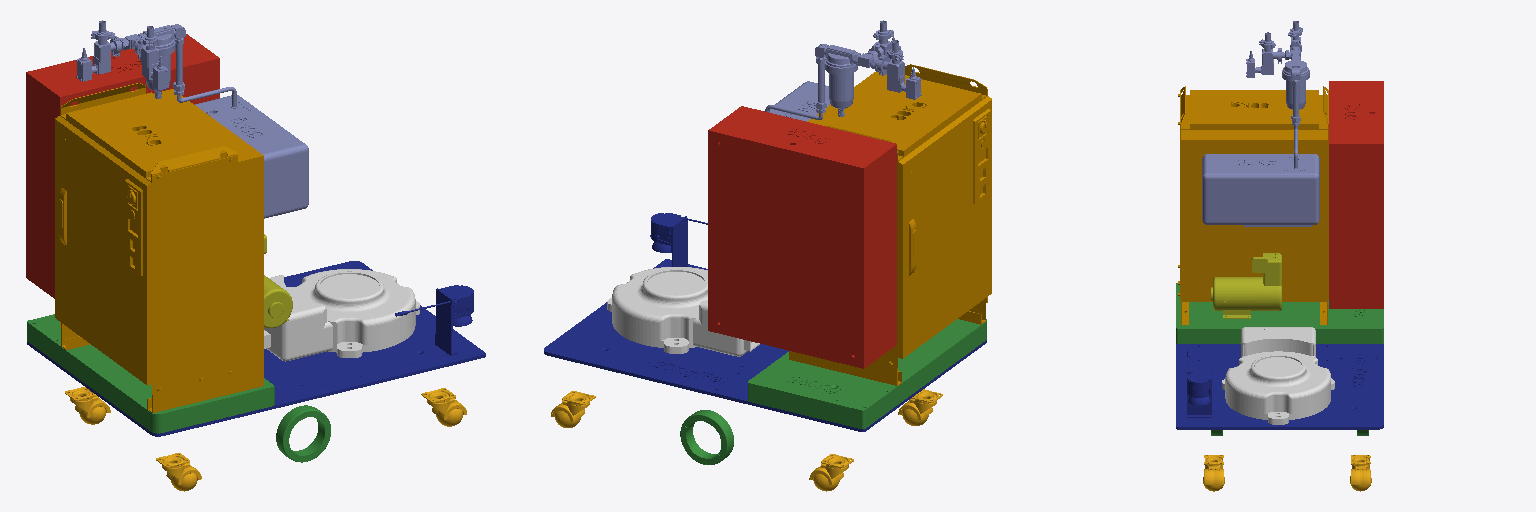
robot.urdf — mir1350:
<?xml version="1.0" ?>
<!-- =================================================================================== -->
<!-- |    This document was autogenerated by xacro from mir1350.xacro                  | -->
<!-- |    EDITING THIS FILE BY HAND IS NOT RECOMMENDED                                 | -->
<!-- =================================================================================== -->
<robot name="mir1350">
  <material name="silver_default">
    <color rgba="0.700 0.700 0.700 1.000"/>
  </material>
  <material name="opaque156168171">
    <color rgba="0.611764705882353 0.6588235294117647 0.6705882352941176 1.0"/>
  </material>
  <material name="powder_coat_rough_green">
    <color rgba="0.26666666666666666 0.5882352941176471 0.2823529411764706 0.0"/>
  </material>
  <material name="powder_coat_rough_blue_1">
    <color rgba="0.5450980392156862 0.5686274509803921 0.7490196078431373 1.0"/>
  </material>
  <material name="opaque223223223">
    <color rgba="0.8745098039215686 0.8745098039215686 0.8745098039215686 1.0"/>
  </material>
  <material name="paint_metallic_red">
    <color rgba="0.7686274509803922 0.20784313725490197 0.15294117647058825 1.0"/>
  </material>
  <material name="polymide_kapton">
    <color rgba="0.7843137254901961 0.5568627450980392 0.027450980392156862 1.0"/>
  </material>
  <material name="paint_metal_flake_green">
    <color rgba="0.26666666666666666 0.5882352941176471 0.2823529411764706 0.0"/>
  </material>
  <material name="paint_metallic_green_1">
    <color rgba="0.7019607843137254 0.7098039215686275 0.19607843137254902 1.0"/>
  </material>
  <material name="powder_coat_rough_blue">
    <color rgba="0.18823529411764706 0.23137254901960785 0.5882352941176471 0.0"/>
  </material>
  <material name="paint_metal_flake_black">
    <color rgba="0.34901960784313724 0.34901960784313724 0.34901960784313724 0.0"/>
  </material>
  <material name="paint_metallic_yellow_2">
    <color rgba="0.7019607843137254 0.6823529411764706 0.6352941176470588 1.0"/>
  </material>
  <material name="paint_metallic_dark_grey">
    <color rgba="0.34901960784313724 0.34901960784313724 0.34901960784313724 1.0"/>
  </material>
  <material name="paint_metal_flake_yellow">
    <color rgba="0.9098039215686274 0.6784313725490196 0.13725490196078433 0.0"/>
  </material>
  <transmission name="leftDriveWheel_link_tran">
    <type>transmission_interface/SimpleTransmission</type>
    <joint name="leftDriveWheel_link">
      <hardwareInterface>hardware_interface/EffortJointInterface</hardwareInterface>
    </joint>
    <actuator name="leftDriveWheel_link_actr">
      <hardwareInterface>hardware_interface/EffortJointInterface</hardwareInterface>
      <mechanicalReduction>1</mechanicalReduction>
    </actuator>
  </transmission>
  <transmission name="rightDriveWheel_link_tran">
    <type>transmission_interface/SimpleTransmission</type>
    <joint name="rightDriveWheel_link">
      <hardwareInterface>hardware_interface/EffortJointInterface</hardwareInterface>
    </joint>
    <actuator name="rightDriveWheel_link_actr">
      <hardwareInterface>hardware_interface/EffortJointInterface</hardwareInterface>
      <mechanicalReduction>1</mechanicalReduction>
    </actuator>
  </transmission>
  <gazebo>
    <plugin filename="libgazebo_ros_control.so" name="control"/>
  </gazebo>
  <gazebo reference="base_link">
    <material>Gazebo/Silver</material>
    <mu1>0.2</mu1>
    <mu2>0.2</mu2>
    <selfCollide>true</selfCollide>
    <gravity>true</gravity>
  </gazebo>
  <gazebo reference="caster_RearRight__2__1">
    <material>Gazebo/Silver</material>
    <mu1>0.2</mu1>
    <mu2>0.2</mu2>
    <selfCollide>true</selfCollide>
  </gazebo>
  <gazebo reference="caster_RearLeft__2__1">
    <material>Gazebo/Silver</material>
    <mu1>0.2</mu1>
    <mu2>0.2</mu2>
    <selfCollide>true</selfCollide>
  </gazebo>
  <gazebo reference="caster_FrontLeft__2__1">
    <material>Gazebo/Silver</material>
    <mu1>0.2</mu1>
    <mu2>0.2</mu2>
    <selfCollide>true</selfCollide>
  </gazebo>
  <gazebo reference="caster_FrontRight__2__1">
    <material>Gazebo/Silver</material>
    <mu1>0.2</mu1>
    <mu2>0.2</mu2>
    <selfCollide>true</selfCollide>
  </gazebo>
  <gazebo reference="drive_LeftWheel__1__1">
    <material>Gazebo/Silver</material>
    <mu1>0.2</mu1>
    <mu2>0.2</mu2>
    <selfCollide>true</selfCollide>
  </gazebo>
  <gazebo reference="drive_RightWheel__1__1">
    <material>Gazebo/Silver</material>
    <mu1>0.2</mu1>
    <mu2>0.2</mu2>
    <selfCollide>true</selfCollide>
  </gazebo>
  <gazebo reference="BasePlate_120kg__1__1">
    <material>Gazebo/Silver</material>
    <mu1>0.2</mu1>
    <mu2>0.2</mu2>
    <selfCollide>true</selfCollide>
  </gazebo>
  <gazebo reference="abb_link1__1__1">
    <material>Gazebo/Silver</material>
    <mu1>0.2</mu1>
    <mu2>0.2</mu2>
    <selfCollide>true</selfCollide>
  </gazebo>
  <gazebo reference="RollerConveyor_40kg__1__1">
    <material>Gazebo/Silver</material>
    <mu1>0.2</mu1>
    <mu2>0.2</mu2>
    <selfCollide>true</selfCollide>
  </gazebo>
  <gazebo reference="CounterWeight_1">
    <material>Gazebo/Silver</material>
    <mu1>0.2</mu1>
    <mu2>0.2</mu2>
    <selfCollide>true</selfCollide>
  </gazebo>
  <gazebo reference="ABBcontroller_80kg__1__1">
    <material>Gazebo/Silver</material>
    <mu1>0.2</mu1>
    <mu2>0.2</mu2>
    <selfCollide>true</selfCollide>
  </gazebo>
  <gazebo reference="AirCompressor_16kg__1__1">
    <material>Gazebo/Silver</material>
    <mu1>0.2</mu1>
    <mu2>0.2</mu2>
    <selfCollide>true</selfCollide>
  </gazebo>
  <gazebo reference="otherParts_30kg__1__1">
    <material>Gazebo/Silver</material>
    <mu1>0.2</mu1>
    <mu2>0.2</mu2>
    <selfCollide>true</selfCollide>
  </gazebo>
  <gazebo reference="VacuumPump_1">
    <material>Gazebo/Silver</material>
    <mu1>0.2</mu1>
    <mu2>0.2</mu2>
    <selfCollide>true</selfCollide>
  </gazebo>
  <gazebo reference="SystemControl_80kg__1__1">
    <material>Gazebo/Silver</material>
    <mu1>0.2</mu1>
    <mu2>0.2</mu2>
    <selfCollide>true</selfCollide>
  </gazebo>
  <link name="base_link">
    <inertial>
      <origin rpy="0 0 0" xyz="-0.0010856545485442544 0.0007356954383515964 0.21743258516762787"/>
      <mass value="240.06091950178092"/>
      <inertia ixx="8.059298" ixy="-0.156968" ixz="0.012994" iyy="25.714345" iyz="-0.000121" izz="32.254947"/>
    </inertial>
    <visual>
      <origin rpy="0 0 0" xyz="0 0 0"/>
      <geometry>
        <mesh filename="package://mir1350_description/meshes/base_link.stl" scale="0.001 0.001 0.001"/>
      </geometry>
      <material name="paint_metallic_dark_grey"/>
    </visual>
    <collision>
      <origin rpy="0 0 0" xyz="0 0 0"/>
      <geometry>
        <mesh filename="package://mir1350_description/meshes/base_link.stl" scale="0.001 0.001 0.001"/>
      </geometry>
    </collision>
  </link>
  <link name="caster_RearRight__2__1">
    <inertial>
      <origin rpy="0 0 0" xyz="0.03912380860145043 1.8628503270501362e-06 -0.06724507608734312"/>
      <mass value="0.0006519532912591948"/>
      <inertia ixx="1e-06" ixy="-0.0" ixz="0.0" iyy="1e-06" iyz="-0.0" izz="1e-06"/>
    </inertial>
    <visual>
      <origin rpy="0 0 0" xyz="0.538127 0.319775 -0.129389"/>
      <geometry>
        <mesh filename="package://mir1350_description/meshes/caster_RearRight__2__1.stl" scale="0.001 0.001 0.001"/>
      </geometry>
      <material name="paint_metal_flake_yellow"/>
    </visual>
    <collision>
      <origin rpy="0 0 0" xyz="0.538127 0.319775 -0.129389"/>
      <geometry>
        <mesh filename="package://mir1350_description/meshes/caster_RearRight__2__1.stl" scale="0.001 0.001 0.001"/>
      </geometry>
    </collision>
  </link>
  <link name="caster_RearLeft__2__1">
    <inertial>
      <origin rpy="0 0 0" xyz="0.039123808408470295 1.9656599339890057e-06 -0.06724507598934176"/>
      <mass value="0.0006519532953513688"/>
      <inertia ixx="1e-06" ixy="-0.0" ixz="0.0" iyy="1e-06" iyz="-0.0" izz="1e-06"/>
    </inertial>
    <visual>
      <origin rpy="0 0 0" xyz="0.538127 -0.323225 -0.129389"/>
      <geometry>
        <mesh filename="package://mir1350_description/meshes/caster_RearLeft__2__1.stl" scale="0.001 0.001 0.001"/>
      </geometry>
      <material name="paint_metal_flake_yellow"/>
    </visual>
    <collision>
      <origin rpy="0 0 0" xyz="0.538127 -0.323225 -0.129389"/>
      <geometry>
        <mesh filename="package://mir1350_description/meshes/caster_RearLeft__2__1.stl" scale="0.001 0.001 0.001"/>
      </geometry>
    </collision>
  </link>
  <link name="caster_FrontLeft__2__1">
    <inertial>
      <origin rpy="0 0 0" xyz="0.039124372463198887 2.1566922445148684e-06 -0.06724507116121485"/>
      <mass value="0.0006519533692146864"/>
      <inertia ixx="1e-06" ixy="-0.0" ixz="0.0" iyy="1e-06" iyz="-0.0" izz="1e-06"/>
    </inertial>
    <visual>
      <origin rpy="0 0 0" xyz="-0.541875 -0.323225 -0.129389"/>
      <geometry>
        <mesh filename="package://mir1350_description/meshes/caster_FrontLeft__2__1.stl" scale="0.001 0.001 0.001"/>
      </geometry>
      <material name="paint_metal_flake_yellow"/>
    </visual>
    <collision>
      <origin rpy="0 0 0" xyz="-0.541875 -0.323225 -0.129389"/>
      <geometry>
        <mesh filename="package://mir1350_description/meshes/caster_FrontLeft__2__1.stl" scale="0.001 0.001 0.001"/>
      </geometry>
    </collision>
  </link>
  <link name="caster_FrontRight__2__1">
    <inertial>
      <origin rpy="0 0 0" xyz="0.03912395381400113 1.6983374287460329e-06 -0.06724507116242276"/>
      <mass value="0.0006519533692452119"/>
      <inertia ixx="1e-06" ixy="-0.0" ixz="0.0" iyy="1e-06" iyz="-0.0" izz="1e-06"/>
    </inertial>
    <visual>
      <origin rpy="0 0 0" xyz="-0.541875 0.319775 -0.129389"/>
      <geometry>
        <mesh filename="package://mir1350_description/meshes/caster_FrontRight__2__1.stl" scale="0.001 0.001 0.001"/>
      </geometry>
      <material name="paint_metal_flake_yellow"/>
    </visual>
    <collision>
      <origin rpy="0 0 0" xyz="-0.541875 0.319775 -0.129389"/>
      <geometry>
        <mesh filename="package://mir1350_description/meshes/caster_FrontRight__2__1.stl" scale="0.001 0.001 0.001"/>
      </geometry>
    </collision>
  </link>
  <link name="drive_LeftWheel__1__1">
    <inertial>
      <origin rpy="0 0 0" xyz="-5.70429820866429e-07 -0.025130866674841934 6.552288893249547e-06"/>
      <mass value="0.0007074594908384875"/>
      <inertia ixx="3e-06" ixy="-0.0" ixz="0.0" iyy="5e-06" iyz="0.0" izz="3e-06"/>
    </inertial>
    <visual>
      <origin rpy="0 0 0" xyz="-0.000375 -0.357025 -0.099389"/>
      <geometry>
        <mesh filename="package://mir1350_description/meshes/drive_LeftWheel__1__1.stl" scale="0.001 0.001 0.001"/>
      </geometry>
      <material name="paint_metal_flake_green"/>
    </visual>
    <collision>
      <origin rpy="0 0 0" xyz="-0.000375 -0.357025 -0.099389"/>
      <geometry>
        <mesh filename="package://mir1350_description/meshes/drive_LeftWheel__1__1.stl" scale="0.001 0.001 0.001"/>
      </geometry>
    </collision>
  </link>
  <link name="drive_RightWheel__1__1">
    <inertial>
      <origin rpy="0 0 0" xyz="-5.704299383384875e-07 0.025130102319404435 -5.8247150360041244e-06"/>
      <mass value="0.0007074594908384411"/>
      <inertia ixx="3e-06" ixy="0.0" ixz="-0.0" iyy="5e-06" iyz="0.0" izz="3e-06"/>
    </inertial>
    <visual>
      <origin rpy="0 0 0" xyz="-0.000375 0.332265 -0.099389"/>
      <geometry>
        <mesh filename="package://mir1350_description/meshes/drive_RightWheel__1__1.stl" scale="0.001 0.001 0.001"/>
      </geometry>
      <material name="paint_metal_flake_green"/>
    </visual>
    <collision>
      <origin rpy="0 0 0" xyz="-0.000375 0.332265 -0.099389"/>
      <geometry>
        <mesh filename="package://mir1350_description/meshes/drive_RightWheel__1__1.stl" scale="0.001 0.001 0.001"/>
      </geometry>
    </collision>
  </link>
  <link name="BasePlate_120kg__1__1">
    <inertial>
      <origin rpy="0 0 0" xyz="-0.619555176634307 -0.4713520529920168 0.01790951521729106"/>
      <mass value="119.4299537127963"/>
      <inertia ixx="8.874803" ixy="1.691826" ixz="-0.777844" iyy="19.832101" iyz="0.452625" izz="28.257635"/>
    </inertial>
    <visual>
      <origin rpy="0 0 0" xyz="-0.634155 -0.415505 -0.320389"/>
      <geometry>
        <mesh filename="package://mir1350_description/meshes/BasePlate_120kg__1__1.stl" scale="0.001 0.001 0.001"/>
      </geometry>
      <material name="powder_coat_rough_blue"/>
    </visual>
    <collision>
      <origin rpy="0 0 0" xyz="-0.634155 -0.415505 -0.320389"/>
      <geometry>
        <mesh filename="package://mir1350_description/meshes/BasePlate_120kg__1__1.stl" scale="0.001 0.001 0.001"/>
      </geometry>
    </collision>
  </link>
  <link name="abb_link1__1__1">
    <inertial>
      <origin rpy="0 0 0" xyz="-0.08609939509422998 9.104875394928824e-05 0.07094417667188363"/>
      <mass value="48.995313898683875"/>
      <inertia ixx="0.678647" ixy="0.001301" ixz="0.078187" iyy="1.412674" iyz="7e-05" izz="1.894976"/>
    </inertial>
    <visual>
      <origin rpy="0 0 0" xyz="-0.342941 0.037709 -0.333089"/>
      <geometry>
        <mesh filename="package://mir1350_description/meshes/abb_link1__1__1.stl" scale="0.001 0.001 0.001"/>
      </geometry>
      <material name="opaque223223223"/>
    </visual>
    <collision>
      <origin rpy="0 0 0" xyz="-0.342941 0.037709 -0.333089"/>
      <geometry>
        <mesh filename="package://mir1350_description/meshes/abb_link1__1__1.stl" scale="0.001 0.001 0.001"/>
      </geometry>
    </collision>
  </link>
  <link name="RollerConveyor_40kg__1__1">
    <inertial>
      <origin rpy="0 0 0" xyz="-0.0015468495463342724 -0.34710390212615844 0.26422565397448744"/>
      <mass value="39.993100647907234"/>
      <inertia ixx="1.695519" ixy="0.156929" ixz="-0.083665" iyy="7.932296" iyz="0.174401" izz="9.387733"/>
    </inertial>
    <visual>
      <origin rpy="0 0 0" xyz="-0.468441 0.406209 -0.333089"/>
      <geometry>
        <mesh filename="package://mir1350_description/meshes/RollerConveyor_40kg__1__1.stl" scale="0.001 0.001 0.001"/>
      </geometry>
      <material name="paint_metal_flake_black"/>
    </visual>
    <collision>
      <origin rpy="0 0 0" xyz="-0.468441 0.406209 -0.333089"/>
      <geometry>
        <mesh filename="package://mir1350_description/meshes/RollerConveyor_40kg__1__1.stl" scale="0.001 0.001 0.001"/>
      </geometry>
    </collision>
  </link>
  <link name="CounterWeight_1">
    <inertial>
      <origin rpy="0 0 0" xyz="-0.24145666446248365 -0.4515904882015565 0.037408571220634956"/>
      <mass value="259.8315203695886"/>
      <inertia ixx="18.030362" ixy="0.003971" ixz="0.001823" iyy="5.325588" iyz="-0.004185" izz="23.115669"/>
    </inertial>
    <visual>
      <origin rpy="0 0 0" xyz="0.219987 -0.421362 -0.332589"/>
      <geometry>
        <mesh filename="package://mir1350_description/meshes/CounterWeight_1.stl" scale="0.001 0.001 0.001"/>
      </geometry>
      <material name="powder_coat_rough_green"/>
    </visual>
    <collision>
      <origin rpy="0 0 0" xyz="0.219987 -0.421362 -0.332589"/>
      <geometry>
        <mesh filename="package://mir1350_description/meshes/CounterWeight_1.stl" scale="0.001 0.001 0.001"/>
      </geometry>
    </collision>
  </link>
  <link name="ABBcontroller_80kg__1__1">
    <inertial>
      <origin rpy="0 0 0" xyz="-0.23896852577640515 0.3216886577577235 0.5129132355755744"/>
      <mass value="79.98378809945639"/>
      <inertia ixx="7.105689" ixy="-0.004218" ixz="0.036728" iyy="5.799953" iyz="0.004404" izz="4.322858"/>
    </inertial>
    <visual>
      <origin rpy="0 0 0" xyz="0.252559 0.464209 -0.407589"/>
      <geometry>
        <mesh filename="package://mir1350_description/meshes/ABBcontroller_80kg__1__1.stl" scale="0.001 0.001 0.001"/>
      </geometry>
      <material name="polymide_kapton"/>
    </visual>
    <collision>
      <origin rpy="0 0 0" xyz="0.252559 0.464209 -0.407589"/>
      <geometry>
        <mesh filename="package://mir1350_description/meshes/ABBcontroller_80kg__1__1.stl" scale="0.001 0.001 0.001"/>
      </geometry>
    </collision>
  </link>
  <link name="AirCompressor_16kg__1__1">
    <inertial>
      <origin rpy="0 0 0" xyz="-0.061647150849215036 0.10717750979409016 0.09550861946833644"/>
      <mass value="16.000616374722483"/>
      <inertia ixx="0.181397" ixy="-0.000555" ixz="-0.002017" iyy="0.07793" iyz="-0.027496" izz="0.146624"/>
    </inertial>
    <visual>
      <origin rpy="0 0 0" xyz="0.061062 0.268087 -0.538339"/>
      <geometry>
        <mesh filename="package://mir1350_description/meshes/AirCompressor_16kg__1__1.stl" scale="0.001 0.001 0.001"/>
      </geometry>
      <material name="paint_metallic_green_1"/>
    </visual>
    <collision>
      <origin rpy="0 0 0" xyz="0.061062 0.268087 -0.538339"/>
      <geometry>
        <mesh filename="package://mir1350_description/meshes/AirCompressor_16kg__1__1.stl" scale="0.001 0.001 0.001"/>
      </geometry>
    </collision>
  </link>
  <link name="otherParts_30kg__1__1">
    <inertial>
      <origin rpy="0 0 0" xyz="-0.23191598172264377 -0.24452095846517857 0.3081784845026831"/>
      <mass value="0.00834966660294578"/>
      <inertia ixx="0.000756" ixy="0.000267" ixz="-0.000151" iyy="0.000669" iyz="0.000205" izz="0.000909"/>
    </inertial>
    <visual>
      <origin rpy="0 0 0" xyz="0.072059 -0.394291 -0.333089"/>
      <geometry>
        <mesh filename="package://mir1350_description/meshes/otherParts_30kg__1__1.stl" scale="0.001 0.001 0.001"/>
      </geometry>
      <material name="paint_metallic_yellow_2"/>
    </visual>
    <collision>
      <origin rpy="0 0 0" xyz="0.072059 -0.394291 -0.333089"/>
      <geometry>
        <mesh filename="package://mir1350_description/meshes/otherParts_30kg__1__1.stl" scale="0.001 0.001 0.001"/>
      </geometry>
    </collision>
  </link>
  <link name="VacuumPump_1">
    <inertial>
      <origin rpy="0 0 0" xyz="-0.12176064826890667 0.11539326877413086 0.21350080034661978"/>
      <mass value="35.133346290544765"/>
      <inertia ixx="1.918109" ixy="0.159077" ixz="0.644284" iyy="1.789979" iyz="-0.193885" izz="1.603041"/>
    </inertial>
    <visual>
      <origin rpy="0 0 0" xyz="0.053562 0.190587 -0.974339"/>
      <geometry>
        <mesh filename="package://mir1350_description/meshes/VacuumPump_1.stl" scale="0.001 0.001 0.001"/>
      </geometry>
      <material name="powder_coat_rough_blue_1"/>
    </visual>
    <collision>
      <origin rpy="0 0 0" xyz="0.053562 0.190587 -0.974339"/>
      <geometry>
        <mesh filename="package://mir1350_description/meshes/VacuumPump_1.stl" scale="0.001 0.001 0.001"/>
      </geometry>
    </collision>
  </link>
  <link name="SystemControl_80kg__1__1">
    <inertial>
      <origin rpy="0 0 0" xyz="-0.3250047661289873 -0.19784681591549375 0.3997534267575793"/>
      <mass value="79.97620780017995"/>
      <inertia ixx="5.216071" ixy="3.7e-05" ixz="0.000167" iyy="7.91172" iyz="0.006178" izz="3.683559"/>
    </inertial>
    <visual>
      <origin rpy="0 0 0" xyz="0.057059 -0.424291 -0.575339"/>
      <geometry>
        <mesh filename="package://mir1350_description/meshes/SystemControl_80kg__1__1.stl" scale="0.001 0.001 0.001"/>
      </geometry>
      <material name="paint_metallic_red"/>
    </visual>
    <collision>
      <origin rpy="0 0 0" xyz="0.057059 -0.424291 -0.575339"/>
      <geometry>
        <mesh filename="package://mir1350_description/meshes/SystemControl_80kg__1__1.stl" scale="0.001 0.001 0.001"/>
      </geometry>
    </collision>
  </link>
  <joint name="rightRearCaster_link" type="fixed">
    <origin rpy="0 0 0" xyz="-0.538127 -0.319775 0.129389"/>
    <parent link="base_link"/>
    <child link="caster_RearRight__2__1"/>
  </joint>
  <joint name="leftRearCaster_link" type="fixed">
    <origin rpy="0 0 0" xyz="-0.538127 0.323225 0.129389"/>
    <parent link="base_link"/>
    <child link="caster_RearLeft__2__1"/>
  </joint>
  <joint name="leftFrontCaster_link" type="fixed">
    <origin rpy="0 0 0" xyz="0.541875 0.323225 0.129389"/>
    <parent link="base_link"/>
    <child link="caster_FrontLeft__2__1"/>
  </joint>
  <joint name="rightFrontCaster_link" type="fixed">
    <origin rpy="0 0 0" xyz="0.541875 -0.319775 0.129389"/>
    <parent link="base_link"/>
    <child link="caster_FrontRight__2__1"/>
  </joint>
  <joint name="leftDriveWheel_link" type="continuous">
    <origin rpy="0 0 0" xyz="0.000375 0.357025 0.099389"/>
    <parent link="base_link"/>
    <child link="drive_LeftWheel__1__1"/>
    <axis xyz="0.0 1.0 -0.0"/>
  </joint>
  <joint name="rightDriveWheel_link" type="continuous">
    <origin rpy="0 0 0" xyz="0.000375 -0.332265 0.099389"/>
    <parent link="base_link"/>
    <child link="drive_RightWheel__1__1"/>
    <axis xyz="-0.0 -1.0 0.0"/>
  </joint>
  <joint name="mainPlate_link" type="fixed">
    <origin rpy="0 0 0" xyz="0.634155 0.415505 0.320389"/>
    <parent link="base_link"/>
    <child link="BasePlate_120kg__1__1"/>
  </joint>
  <joint name="abbLink1_link" type="fixed">
    <origin rpy="0 0 0" xyz="-0.291214 -0.453214 0.0127"/>
    <parent link="BasePlate_120kg__1__1"/>
    <child link="abb_link1__1__1"/>
  </joint>
  <joint name="conveyor_link" type="fixed">
    <origin rpy="0 0 0" xyz="-0.165714 -0.821714 0.0127"/>
    <parent link="BasePlate_120kg__1__1"/>
    <child link="RollerConveyor_40kg__1__1"/>
  </joint>
  <joint name="counterWeight_link" type="fixed">
    <origin rpy="0 0 0" xyz="-0.854142 0.005857 0.0122"/>
    <parent link="BasePlate_120kg__1__1"/>
    <child link="CounterWeight_1"/>
  </joint>
  <joint name="abbController_link" type="fixed">
    <origin rpy="0 0 0" xyz="-0.032572 -0.885571 0.075"/>
    <parent link="CounterWeight_1"/>
    <child link="ABBcontroller_80kg__1__1"/>
  </joint>
  <joint name="compressor_link" type="fixed">
    <origin rpy="0 0 0" xyz="0.010997 -0.662378 0.20525"/>
    <parent link="otherParts_30kg__1__1"/>
    <child link="AirCompressor_16kg__1__1"/>
  </joint>
  <joint name="fixture_link" type="fixed">
    <origin rpy="0 0 0" xyz="-0.706214 -0.021214 0.0127"/>
    <parent link="BasePlate_120kg__1__1"/>
    <child link="otherParts_30kg__1__1"/>
  </joint>
  <joint name="vacuumPump_link" type="fixed">
    <origin rpy="0 0 0" xyz="0.018497 -0.584878 0.64125"/>
    <parent link="otherParts_30kg__1__1"/>
    <child link="VacuumPump_1"/>
  </joint>
  <joint name="systemController_link" type="fixed">
    <origin rpy="0 0 0" xyz="0.015 0.03 0.24225"/>
    <parent link="otherParts_30kg__1__1"/>
    <child link="SystemControl_80kg__1__1"/>
  </joint>
</robot>

--- Facts derived from the render (not from the file) ---
Views: 3 orthographic renders of the robot side by side, from view 1: azimuth 30°, elevation 25°; view 2: azimuth 150°, elevation 25°; view 3: azimuth 270°, elevation 25°.
Robot: mir1350 — 16 links, 15 joints (2 continuous, 13 fixed); root link base_link; default pose: every joint at zero.
Visible links, largest first — view 1: ABBcontroller_80kg__1__1, BasePlate_120kg__1__1, SystemControl_80kg__1__1, abb_link1__1__1, VacuumPump_1, CounterWeight_1, drive_RightWheel__1__1, AirCompressor_16kg__1__1, caster_FrontRight__2__1, caster_RearRight__2__1, caster_RearLeft__2__1; view 2: SystemControl_80kg__1__1, ABBcontroller_80kg__1__1, BasePlate_120kg__1__1, CounterWeight_1, abb_link1__1__1, VacuumPump_1, drive_LeftWheel__1__1, caster_RearLeft__2__1, caster_FrontLeft__2__1, caster_RearRight__2__1; view 3: ABBcontroller_80kg__1__1, SystemControl_80kg__1__1, VacuumPump_1, BasePlate_120kg__1__1, abb_link1__1__1, CounterWeight_1, AirCompressor_16kg__1__1, caster_FrontRight__2__1, caster_FrontLeft__2__1.
Link boxes in pixels (<box>): ABBcontroller_80kg__1__1: <box>55,83,263,412</box>; BasePlate_120kg__1__1: <box>27,261,485,436</box>; SystemControl_80kg__1__1: <box>26,34,219,298</box>; abb_link1__1__1: <box>264,269,419,361</box>; VacuumPump_1: <box>76,20,308,218</box>; CounterWeight_1: <box>27,314,274,433</box>; drive_RightWheel__1__1: <box>276,405,330,462</box>; AirCompressor_16kg__1__1: <box>264,234,292,327</box>; caster_FrontRight__2__1: <box>421,388,466,426</box>; caster_RearRight__2__1: <box>156,453,201,491</box>; caster_RearLeft__2__1: <box>65,387,110,424</box>; SystemControl_80kg__1__1: <box>708,106,896,368</box>; ABBcontroller_80kg__1__1: <box>789,64,991,385</box>; BasePlate_120kg__1__1: <box>544,213,986,431</box>; CounterWeight_1: <box>748,319,986,428</box>; abb_link1__1__1: <box>607,267,759,356</box>; VacuumPump_1: <box>765,20,921,121</box>; drive_LeftWheel__1__1: <box>680,410,733,464</box>; caster_RearLeft__2__1: <box>809,454,853,491</box>; caster_FrontLeft__2__1: <box>551,391,595,427</box>; caster_RearRight__2__1: <box>898,389,942,425</box>; ABBcontroller_80kg__1__1: <box>1178,86,1328,324</box>; SystemControl_80kg__1__1: <box>1329,81,1383,308</box>; VacuumPump_1: <box>1202,21,1319,226</box>; BasePlate_120kg__1__1: <box>1176,344,1383,429</box>; abb_link1__1__1: <box>1222,327,1334,424</box>; CounterWeight_1: <box>1176,283,1383,343</box>; AirCompressor_16kg__1__1: <box>1211,253,1281,318</box>; caster_FrontRight__2__1: <box>1203,455,1224,491</box>; caster_FrontLeft__2__1: <box>1350,455,1371,491</box>.
Bounding box of the posed robot: 1.4 × 0.91 × 1.71 m (x, y, z).
13 mesh visuals loaded from 16 distinct referenced files (13 binary STL); not drawn: 3 (reference not matched to a file when rendering).
